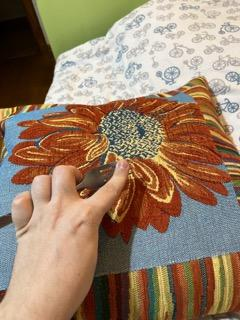fork: (0, 158, 136, 229)
